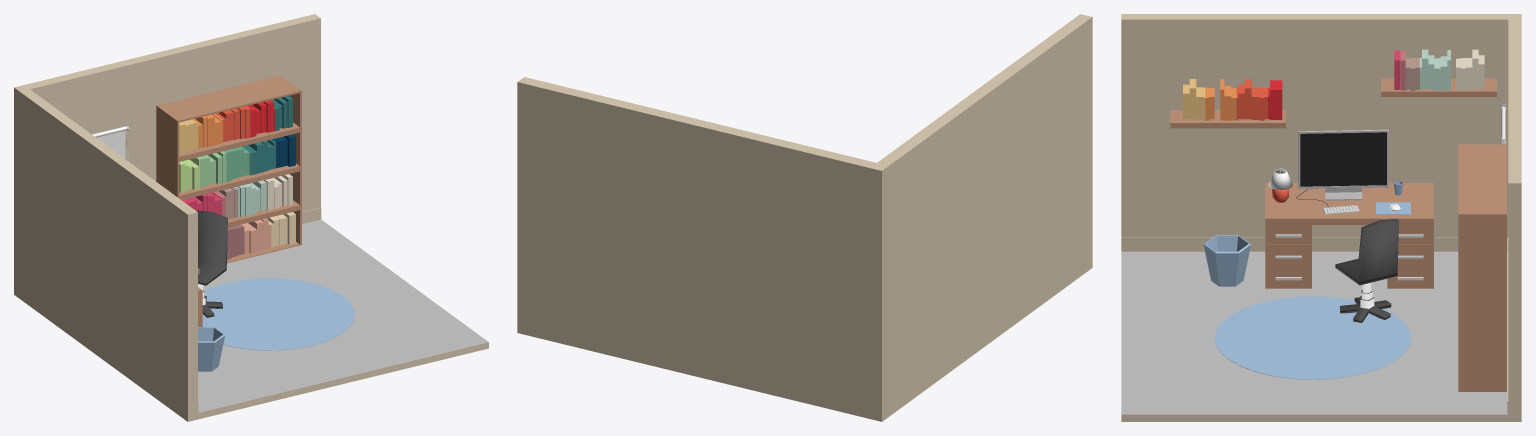
File: modele.glb
The picture shows the model from 3 angles, left to right: view 1: azimuth 30°, elevation 25°; view 2: azimuth 150°, elevation 25°; view 3: azimuth 270°, elevation 25°; orthographic projection. The views are drawn at different scales.
Parts seen in each view (by area): view 1: Cube, Cube.008, Cylinder.003, Book1.001, Book1, Cylinder, Cylinder.001, Panel.001; view 2: Cube; view 3: Cube, Cylinder.003, Cube.008, Cube.001, Book9, Cube.002, Cylinder, Cube.005, Cylinder.001, Lampshade, Cube.006.
Part boxes in pixels (box(x1,y1,x2,y2)): Cube: box(14, 14, 488, 421); Cube.008: box(156, 75, 301, 262); Cylinder.003: box(202, 278, 354, 350); Book1.001: box(179, 96, 295, 192); Book1: box(182, 174, 295, 260); Cylinder: box(197, 210, 227, 317); Cylinder.001: box(198, 327, 225, 371); Panel.001: box(96, 130, 125, 158); Cube: box(517, 14, 1092, 421); Cube: box(1121, 14, 1521, 421); Cylinder.003: box(1214, 296, 1411, 379); Cube.008: box(1458, 144, 1506, 391); Cube.001: box(1265, 183, 1433, 288); Book9: box(1183, 49, 1484, 120); Cube.002: box(1298, 129, 1388, 200); Cylinder: box(1335, 219, 1399, 322); Cube.005: box(1170, 78, 1496, 128); Cylinder.001: box(1203, 235, 1250, 286); Lampshade: box(1268, 168, 1292, 189); Cube.006: box(1376, 202, 1410, 214).
Size of the model in its own units: 10 by 8.18 by 10.
15 materials, 1 textured.
